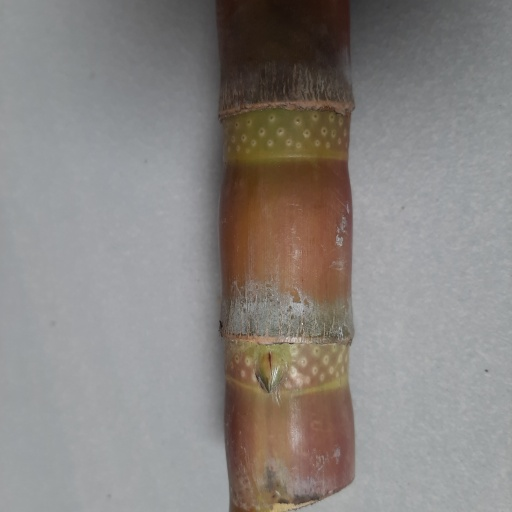Bud: (256, 352, 286, 394)
